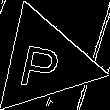P_N: (21, 33, 68, 90)
